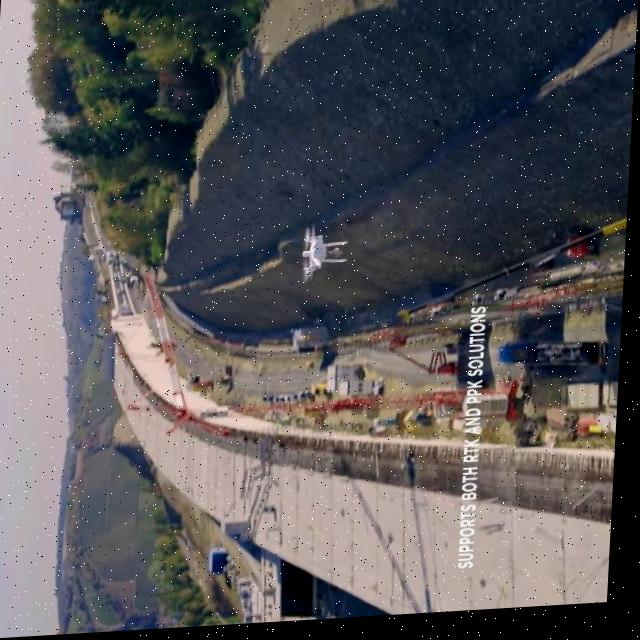drone: (299, 225, 353, 290)
